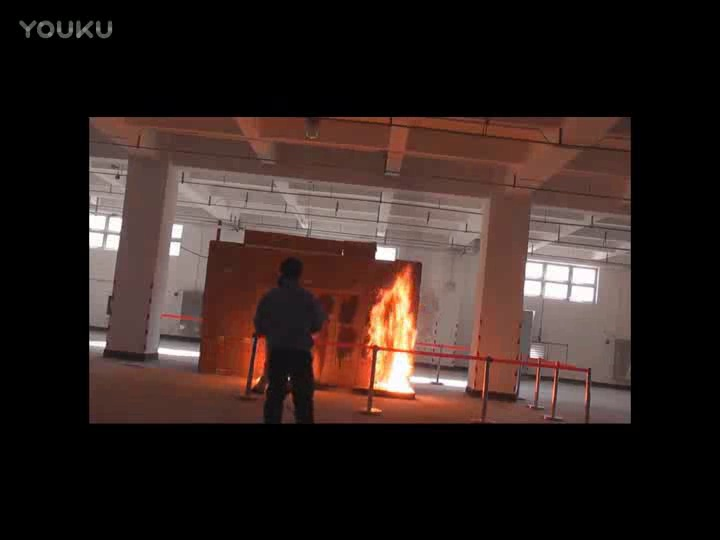fire: (370, 265, 417, 391)
